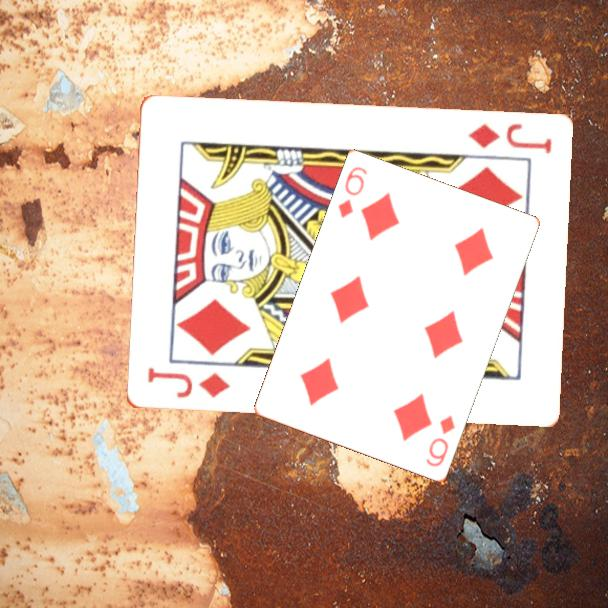d06: (422, 412, 458, 470), (335, 163, 370, 222)
d11: (143, 364, 232, 402), (464, 120, 554, 157)
